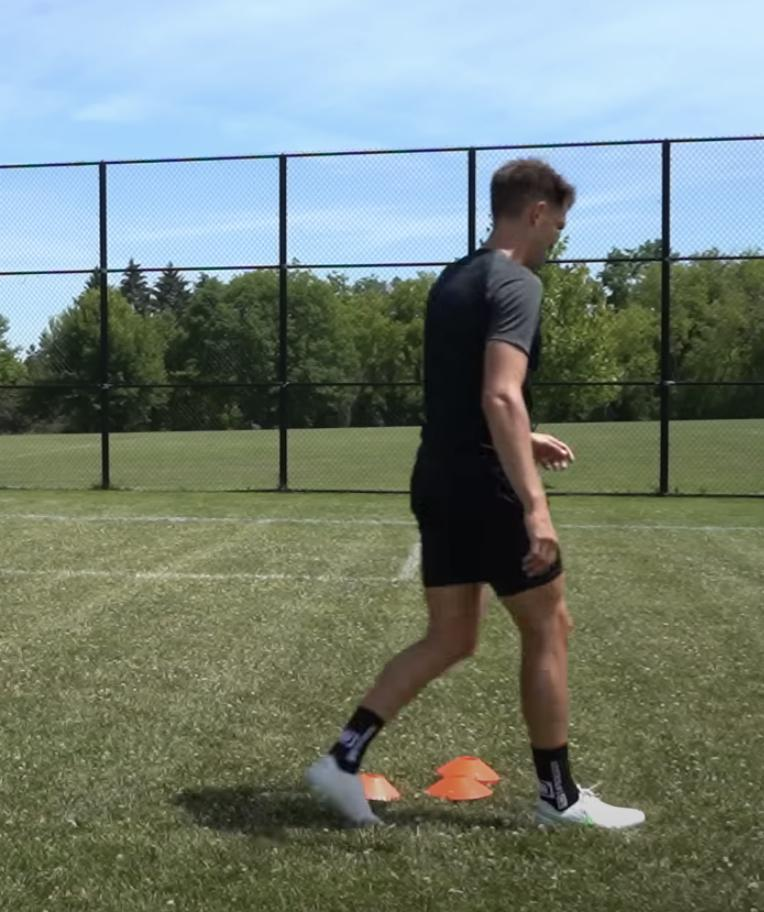foot: (307, 755, 384, 830), (535, 785, 646, 830)
person: (304, 160, 646, 831)
